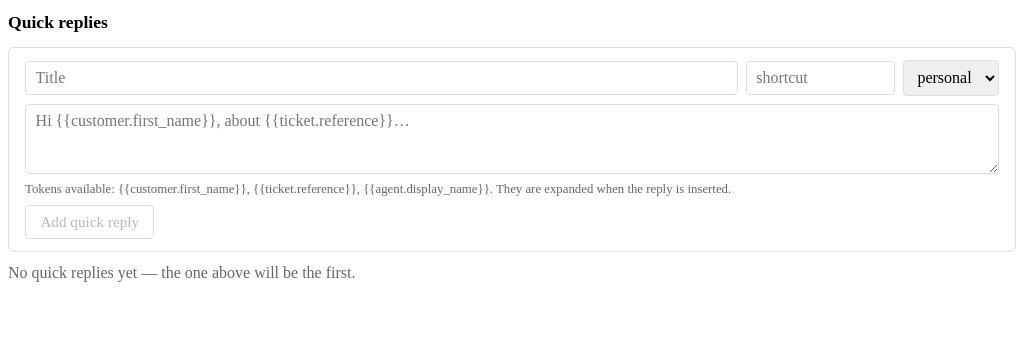
it: QuickRepliesPanel › creates a personal reply, never sending an owner
The width and height of the screenshot is (1024, 364).
Expected: the text "No quick replies yet — the one above will be the first." is shown, [8,264,356,281]
In the field named "Quick reply title": (381, 78) [25,61,738,95], type "Greeting"
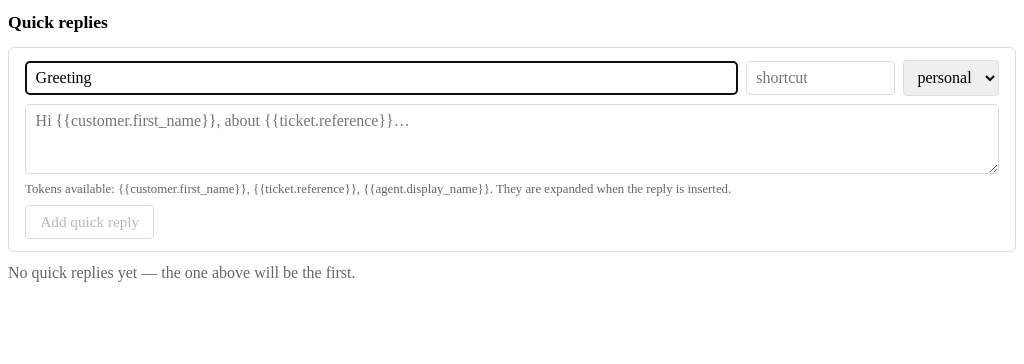
In the field named "Quick reply shortcut": (820, 78) [746,61,895,95], type "hi"
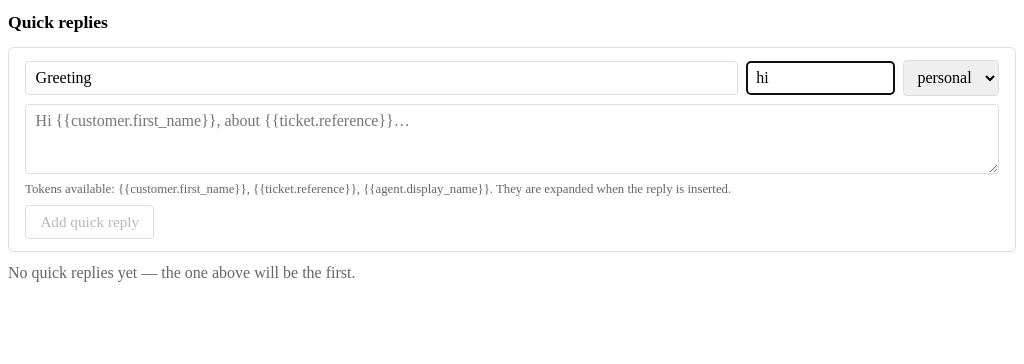
In the text box named "Quick reply body": (512, 139) [25,104,999,174], type "Hello there"
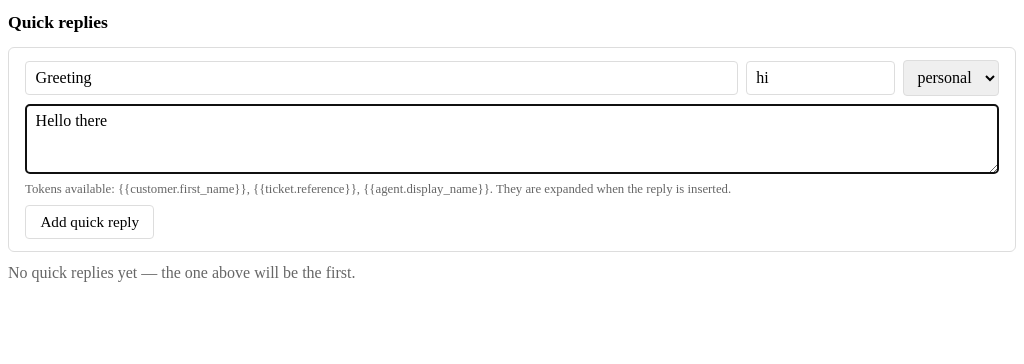
Click the button "Add quick reply": (90, 222) [25,205,154,239]
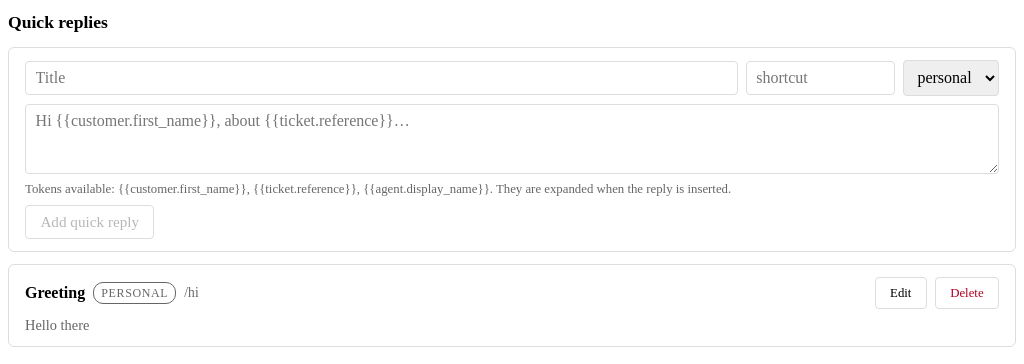
Result: the text "Hello there" is shown at [25,317,89,333]
